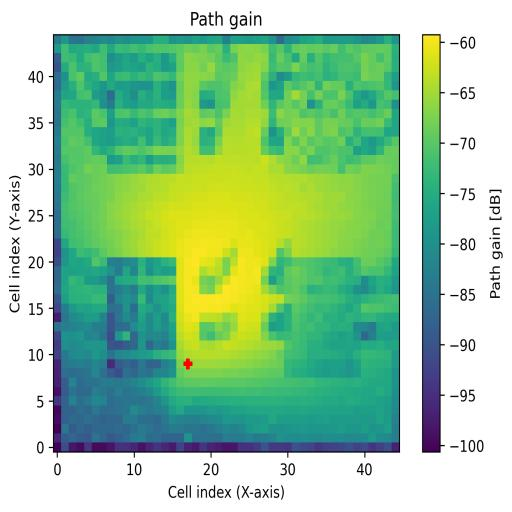Concrete: (285, 52, 362, 173)
Glass: (108, 52, 185, 174)
Metal: (283, 257, 362, 378)
Wood: (106, 258, 176, 379)
